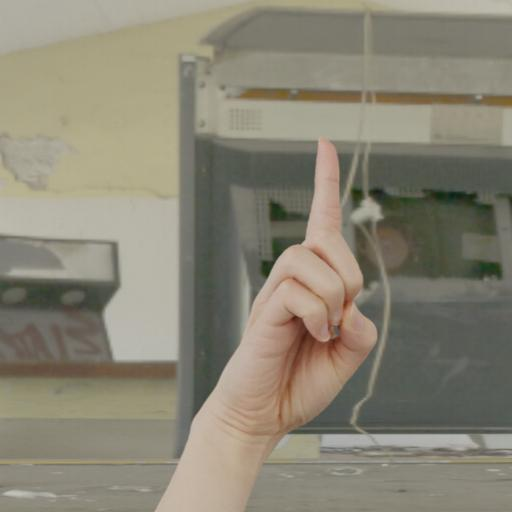D: (214, 127, 378, 423)
